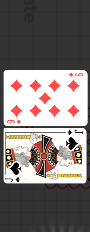7S: (67, 128, 85, 136)
9D: (68, 71, 85, 78)
